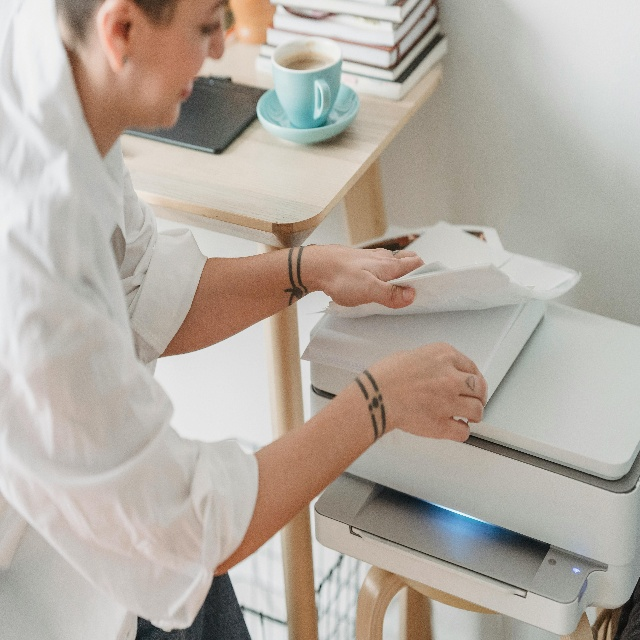Sin_guantes: (380, 340, 489, 443), (315, 244, 425, 309)
